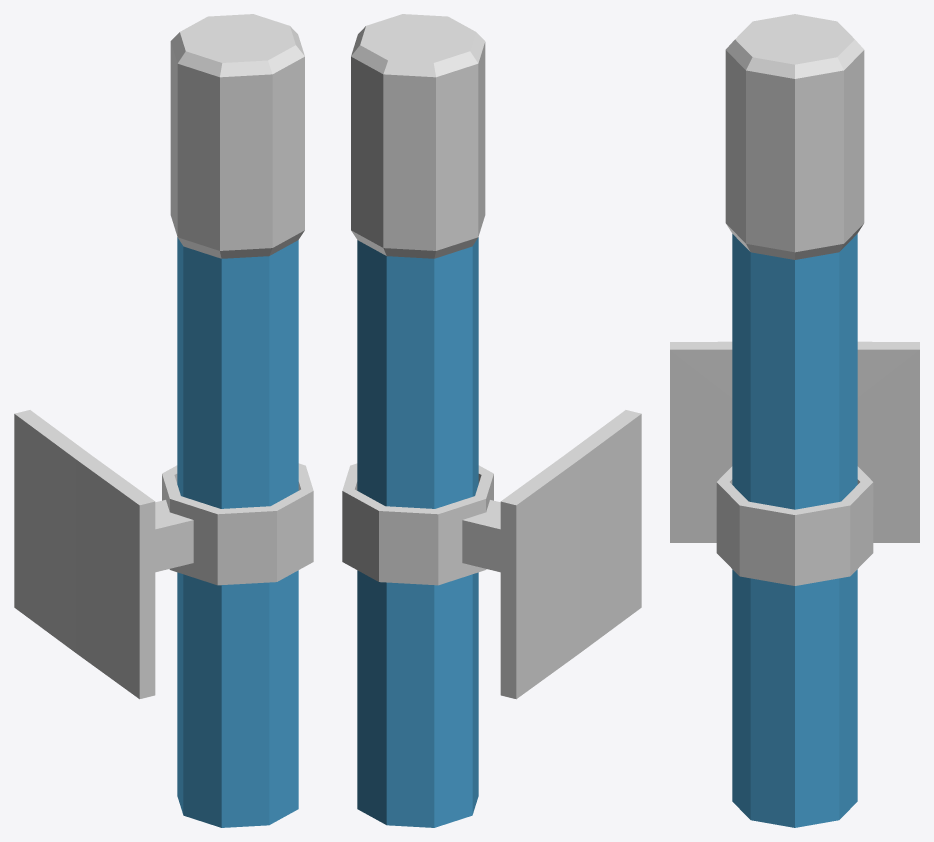
Rendered from torche mural.fbx.
3 views of the same model, side by side, from view 1: azimuth 30°, elevation 25°; view 2: azimuth 150°, elevation 25°; view 3: azimuth 270°, elevation 25° (orthographic).
Parts seen in each view (by area): view 1: Cylinder, Cylinder.001; view 2: Cylinder, Cylinder.001; view 3: Cylinder, Cylinder.001.
Boxes of the visible parts, <box> form: Cylinder: <box>170,14,304,827</box>; Cylinder.001: <box>14,410,313,699</box>; Cylinder: <box>351,14,485,827</box>; Cylinder.001: <box>342,410,641,699</box>; Cylinder: <box>725,14,864,827</box>; Cylinder.001: <box>670,341,919,585</box>.
Bounding box in the file's own units: 84.34 × 268 × 79.78.
